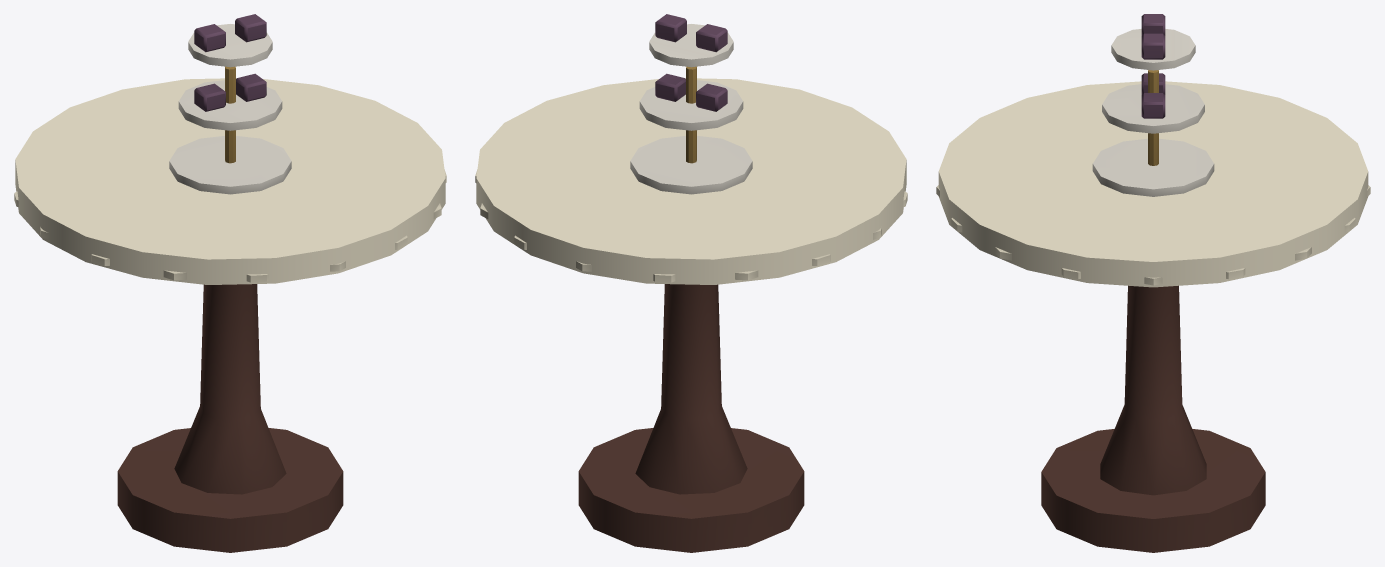
File: table_tea.glb
The picture shows the model from 3 angles, left to right: view 1: azimuth 30°, elevation 25°; view 2: azimuth 150°, elevation 25°; view 3: azimuth 270°, elevation 25°; orthographic projection.
Parts seen in each view (by area): view 1: table_tea; view 2: table_tea; view 3: table_tea.
Part boxes in pixels (box(x1,y1,x2,y2)): table_tea: box(14, 14, 446, 552); table_tea: box(475, 14, 907, 552); table_tea: box(936, 14, 1370, 552).
Size of the model in its own units: 0.93 by 1.13 by 0.93.
